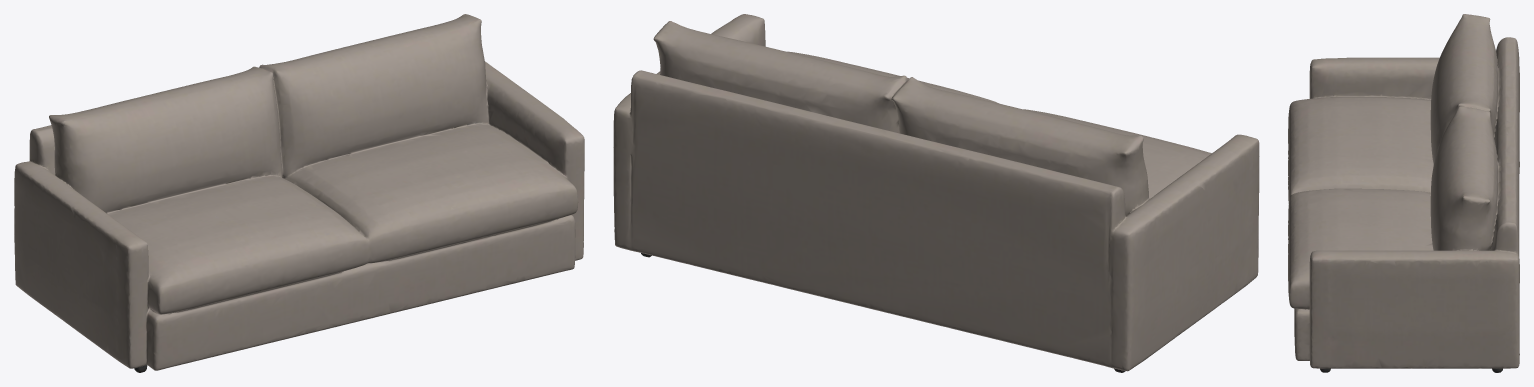
The model's file is sofa.glb.
3 views of the same model, side by side, from view 1: azimuth 30°, elevation 25°; view 2: azimuth 150°, elevation 25°; view 3: azimuth 270°, elevation 25° (orthographic). The views are drawn at different scales.
Parts seen in each view (by area): view 1: geometry_0; view 2: geometry_0; view 3: geometry_0.
Boxes of the visible parts, x1,y1,x2,y2 form: geometry_0: (14, 14, 584, 372); geometry_0: (613, 14, 1259, 372); geometry_0: (1288, 14, 1519, 372).
Size of the model in its own units: 1 by 0.4029 by 0.4845.
1 material, 1 textured.
